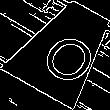O_NE: (29, 17, 100, 83)
